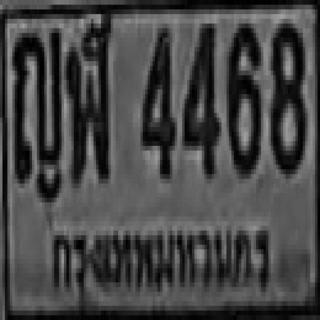A13: (11, 24, 60, 179)
A42: (64, 12, 111, 181)
N04: (182, 19, 217, 174), (140, 23, 172, 174)
N06: (224, 16, 258, 172)
N08: (268, 19, 303, 169)
P04: (44, 217, 279, 303)
